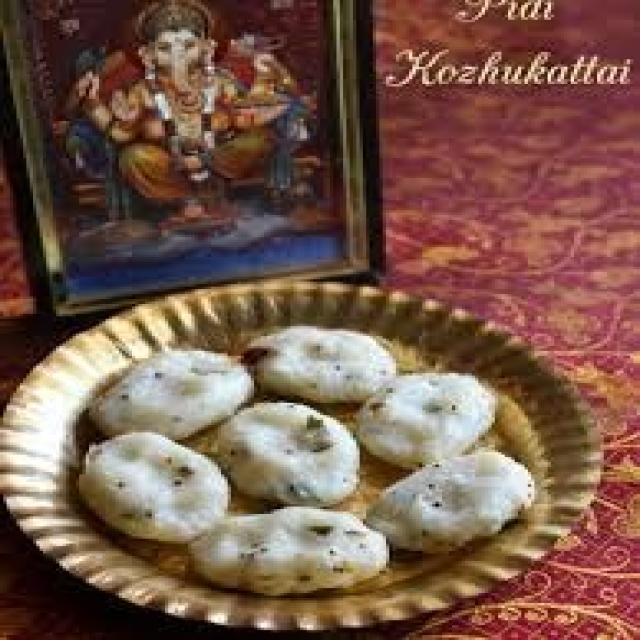pidi kolukattai: (46, 309, 561, 606)
